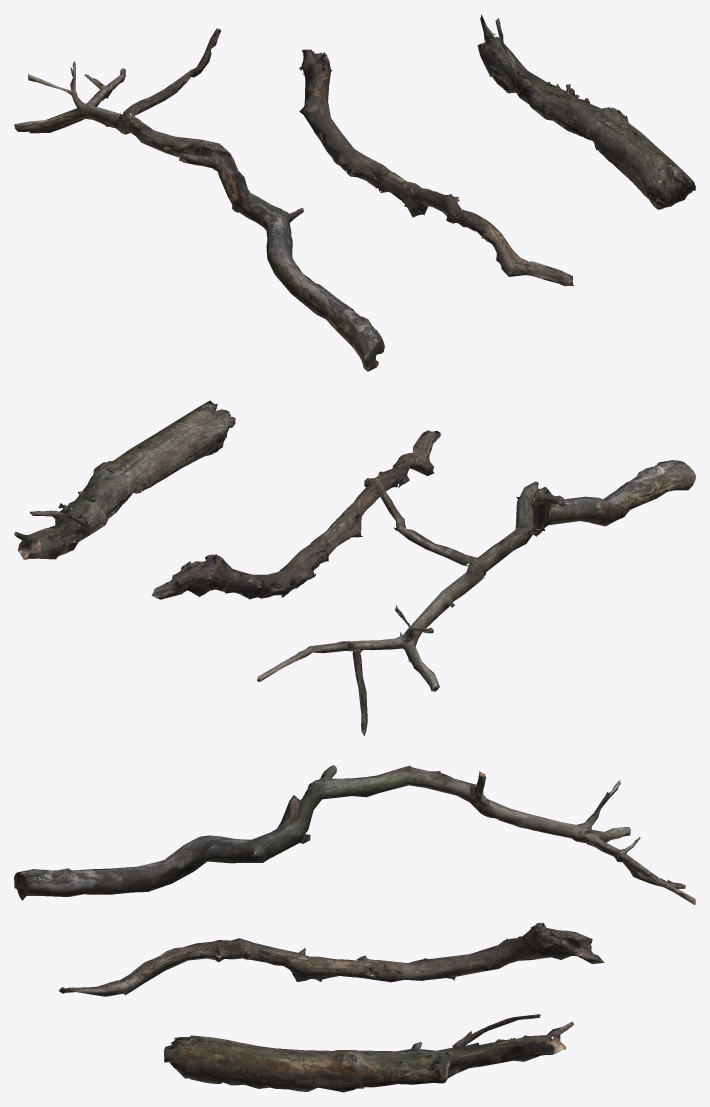
Rendered from dry_branches_medium_01.glb.
The picture shows the model from 3 angles, top to bottom: view 1: azimuth 30°, elevation 25°; view 2: azimuth 150°, elevation 25°; view 3: azimuth 270°, elevation 25°; orthographic projection. The views are drawn at different scales.
Visible parts, largest first — view 1: model; view 2: model; view 3: model.
Boxes of the visible parts, box(x1,y1,x2,y2) form: model: box(14, 14, 695, 371); model: box(14, 400, 695, 735); model: box(14, 765, 695, 1092).
Bounding box in the file's own units: 1.06 × 0.3401 × 1.3.
Materials: 1 (1 with a texture image).
